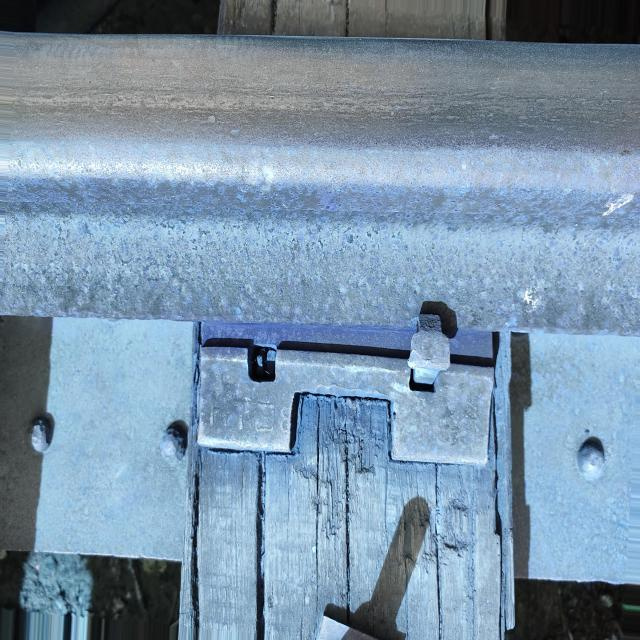Missing Dogscrew: (248, 344, 276, 382)
